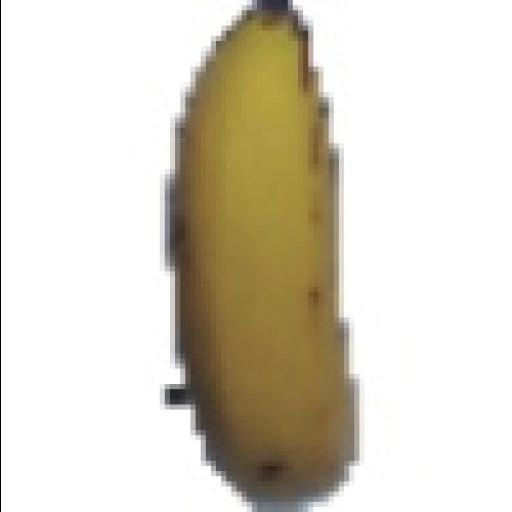banana: (169, 11, 353, 501)
